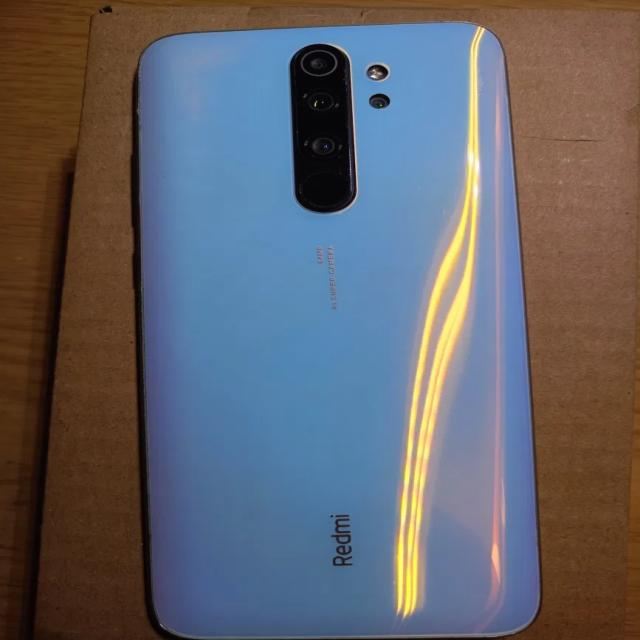Red Mi Note 8 Pro: (98, 21, 545, 640)
